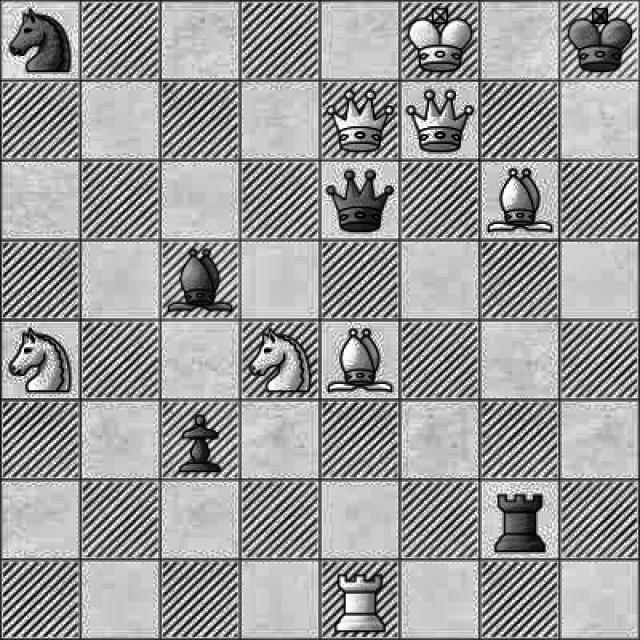Black Knight: (8, 0, 72, 77)
black bishop: (158, 240, 242, 318)
black king: (565, 4, 633, 79)
black pawn: (170, 407, 228, 476)
black queen: (324, 167, 397, 239)
black rook: (488, 484, 550, 556)
white bishop: (482, 160, 557, 238), (324, 324, 397, 397)
white king: (406, 3, 476, 78)
white queen: (324, 80, 394, 156), (401, 86, 475, 156)
white rook: (330, 563, 392, 640)
whiteknight: (1, 323, 78, 398), (241, 320, 313, 396)
